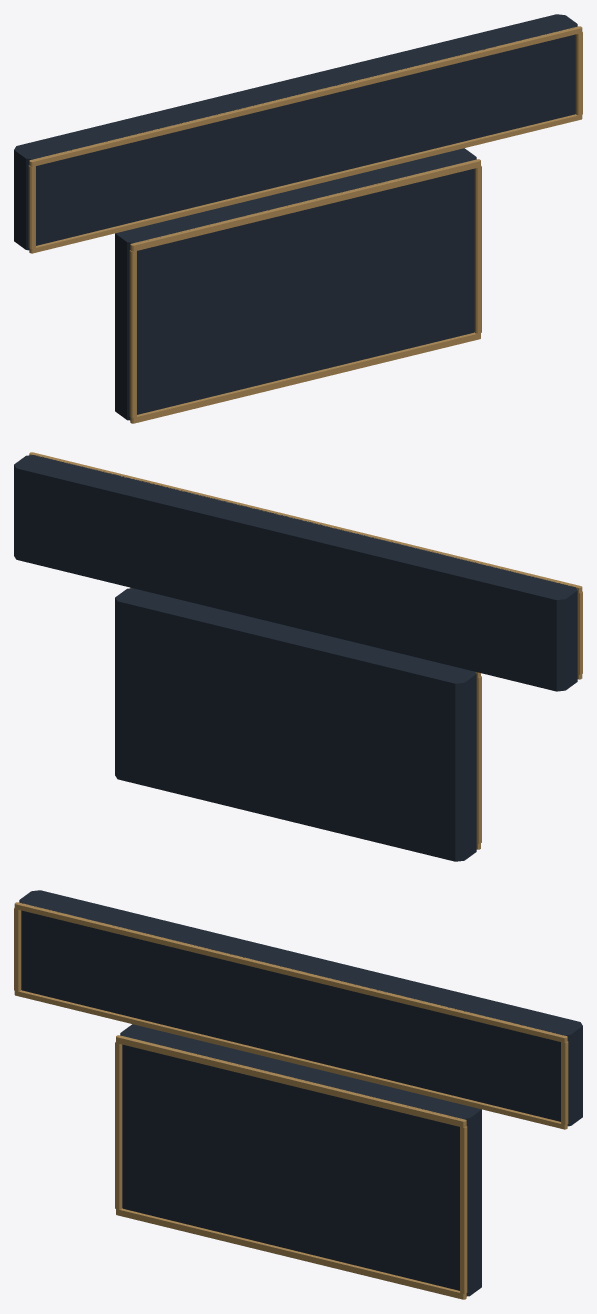
File: score-display.gltf
3 renders of one model, top to bottom at view 1: azimuth 30°, elevation 25°; view 2: azimuth 150°, elevation 25°; view 3: azimuth 330°, elevation 25°, orthographic.
Visible parts, largest first — view 1: score-display; view 2: score-display; view 3: score-display.
Boxes of the visible parts, bbox=[...] form: score-display: bbox=[14, 14, 582, 423]; score-display: bbox=[14, 452, 582, 861]; score-display: bbox=[14, 890, 582, 1299].
Bounding box in the file's own units: 2.4 × 1.19 × 0.155.
